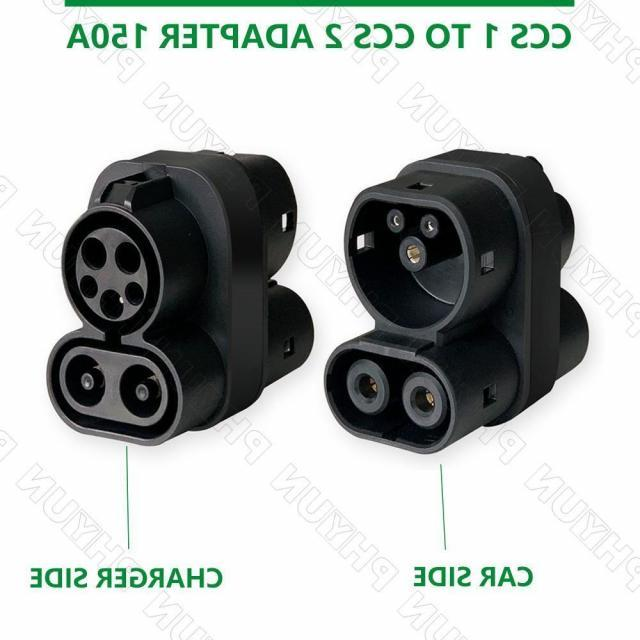CCS1: (40, 222, 187, 444)
